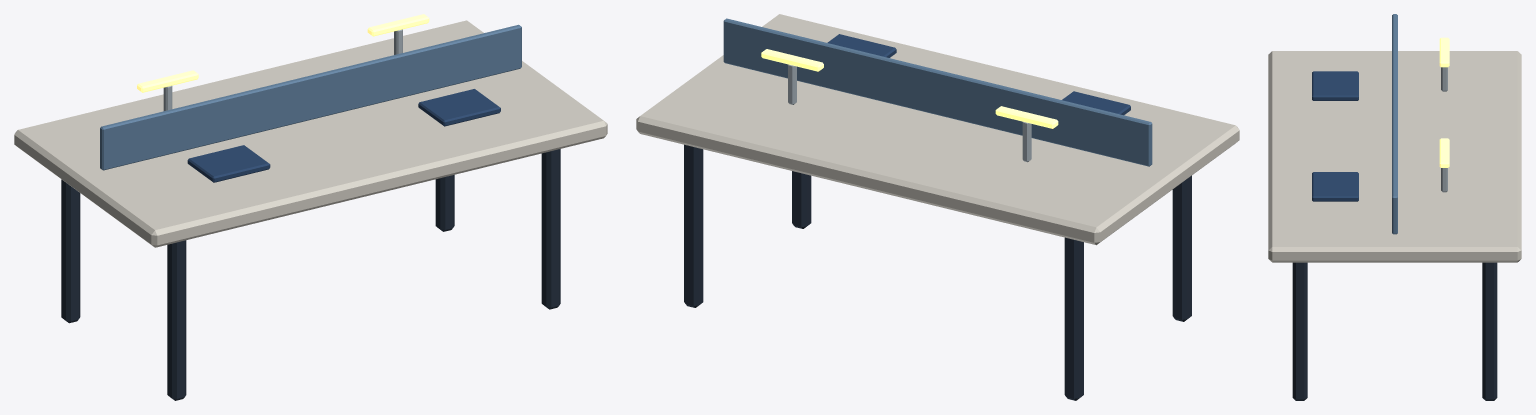
The model's file is campus_02.glb.
The picture shows the model from 3 angles, left to right: view 1: azimuth 30°, elevation 25°; view 2: azimuth 150°, elevation 25°; view 3: azimuth 270°, elevation 25°; orthographic projection. The views are drawn at different scales.
Parts seen in each view (by area): view 1: TableTop, StudyDivider, Leg (×4), StudyBook (×2), LightShade (×2); view 2: TableTop, StudyDivider, Leg (×4), StudyBook (×2), LightShade (×2); view 3: TableTop, Leg (×2), StudyBook (×2), StudyDivider, LightShade (×2).
Boxes of the visible parts, x1,y1,x2,y2 form: TableTop: [14, 20, 607, 247]; StudyDivider: [100, 24, 521, 170]; Leg (×4): [61, 149, 560, 400]; StudyBook (×2): [187, 89, 500, 182]; LightShade (×2): [137, 14, 429, 92]; TableTop: [636, 14, 1239, 245]; StudyDivider: [723, 18, 1152, 166]; Leg (×4): [684, 144, 1191, 400]; StudyBook (×2): [827, 34, 1130, 115]; LightShade (×2): [761, 49, 1058, 128]; TableTop: [1268, 51, 1521, 262]; Leg (×2): [1292, 262, 1497, 400]; StudyBook (×2): [1312, 71, 1358, 201]; StudyDivider: [1392, 14, 1397, 234]; LightShade (×2): [1439, 37, 1449, 167].
Size of the model in its own units: 1.9 by 0.9675 by 1.02.
